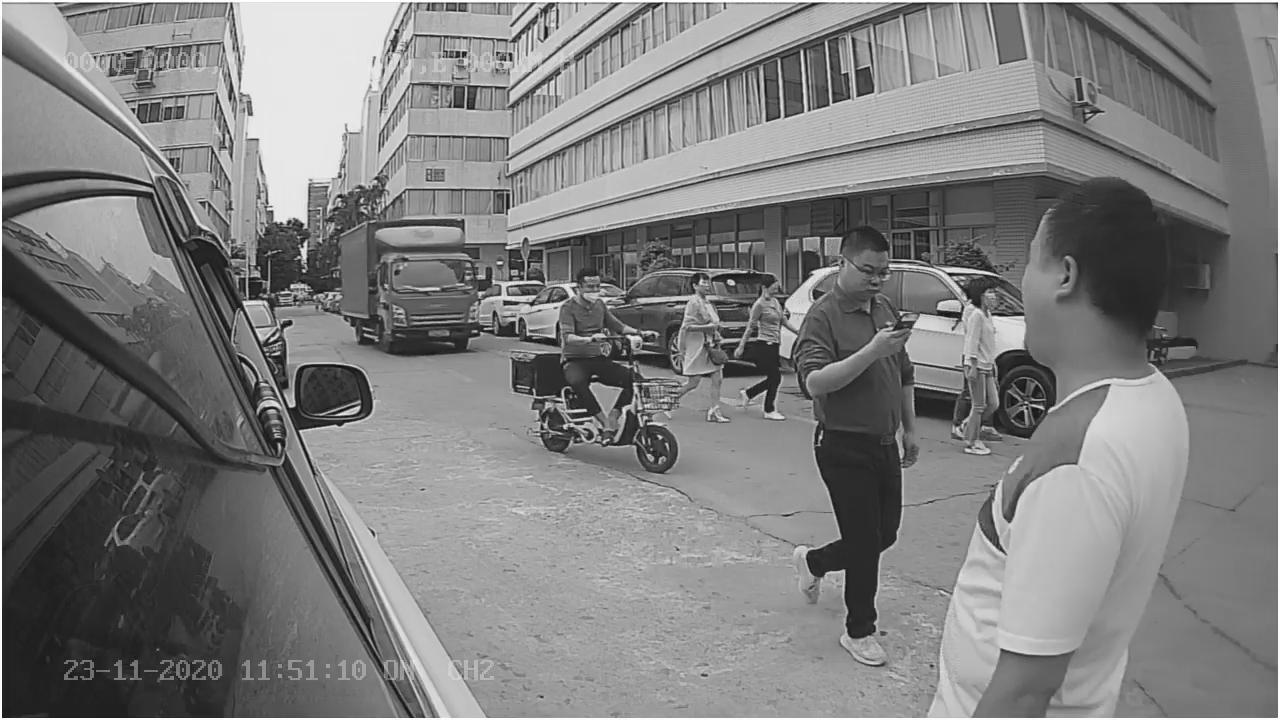person: (789, 222, 920, 666)
